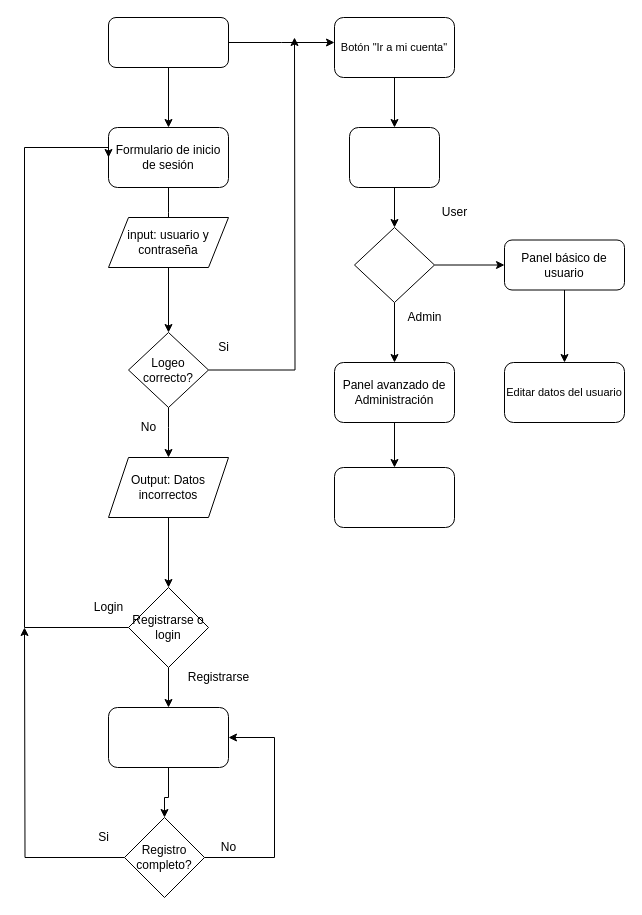
The diagram is 642 pixels wide and 915 high, and some of its shapes have lost their labels. Each missing label, with the box of its shape:
Comprobar el tipo de usuario: (348, 126, 440, 188)
Editar datos de TODOS los usuarios: (334, 466, 454, 528)
Formulario de registro: (108, 706, 228, 768)
Página principal: (108, 16, 228, 68)
User o admin?: (354, 226, 434, 302)
